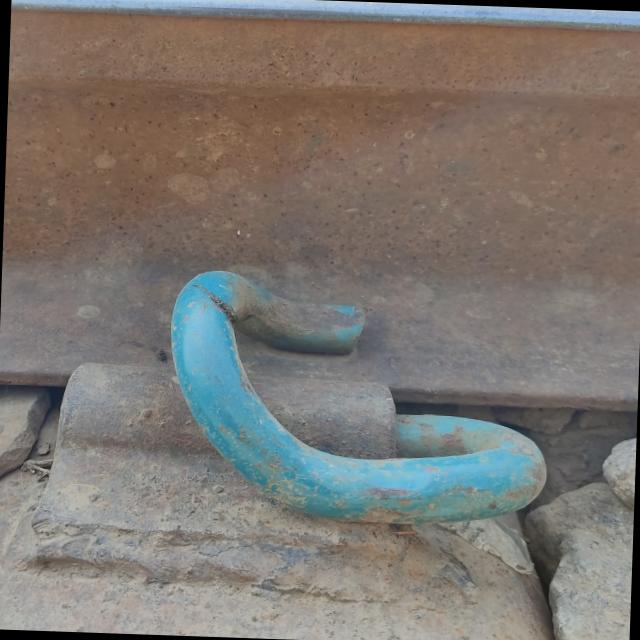track_bolt: (157, 259, 561, 536)
